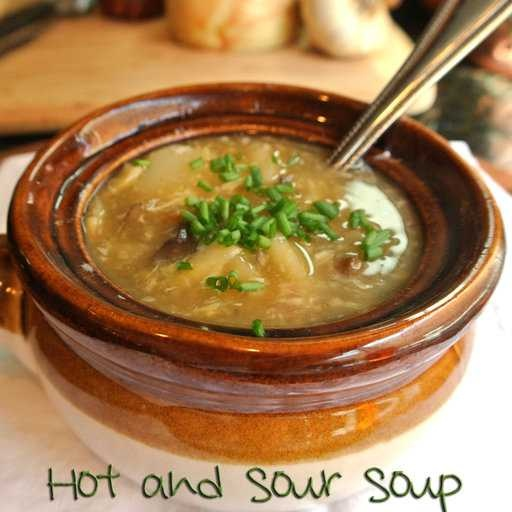soup: (50, 90, 461, 356)
